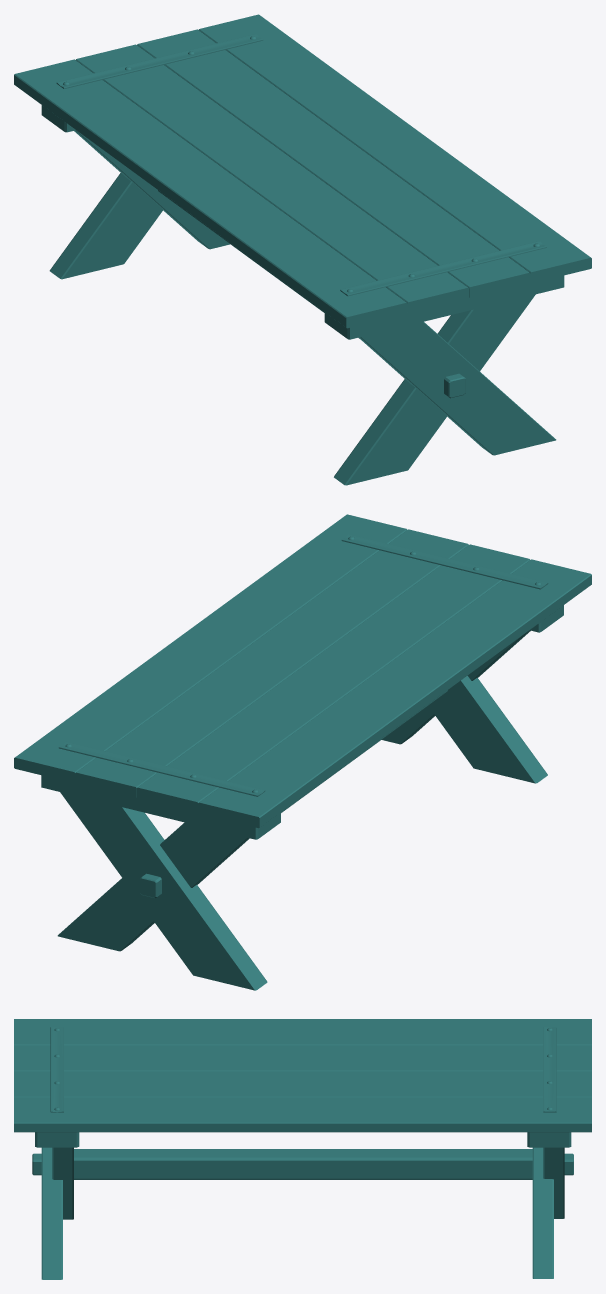
The model's file is KitchenTable.fbx.
3 renders of one model, top to bottom at view 1: azimuth 30°, elevation 25°; view 2: azimuth 150°, elevation 25°; view 3: azimuth 270°, elevation 25°, orthographic. The views are drawn at different scales.
Parts seen in each view (by area): view 1: Table003; view 2: Table003; view 3: Table003.
Part boxes in pixels (bbox=[...]): Table003: bbox=[14, 14, 591, 485]; Table003: bbox=[14, 514, 591, 990]; Table003: bbox=[14, 1019, 591, 1279].
Bounding box in the file's own units: 100 × 74.99 × 235.
